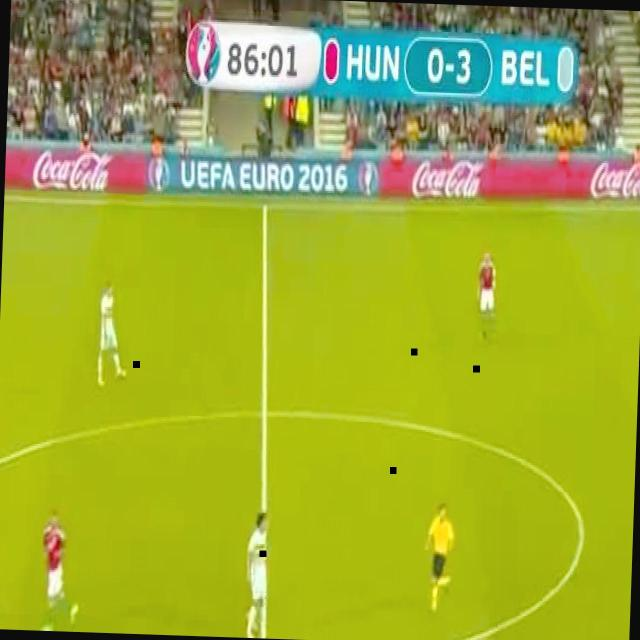player-white: (35, 508, 79, 632), (423, 502, 457, 614), (97, 281, 129, 391), (243, 508, 269, 638), (476, 252, 498, 340), (474, 633, 509, 640)
